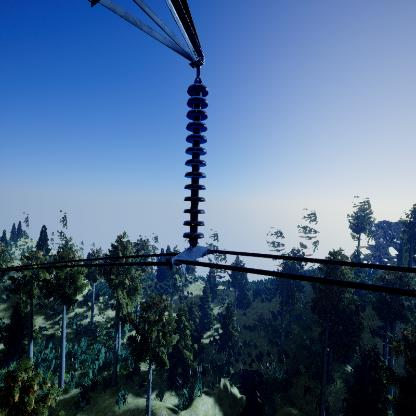insulator: (178, 81, 212, 245)
